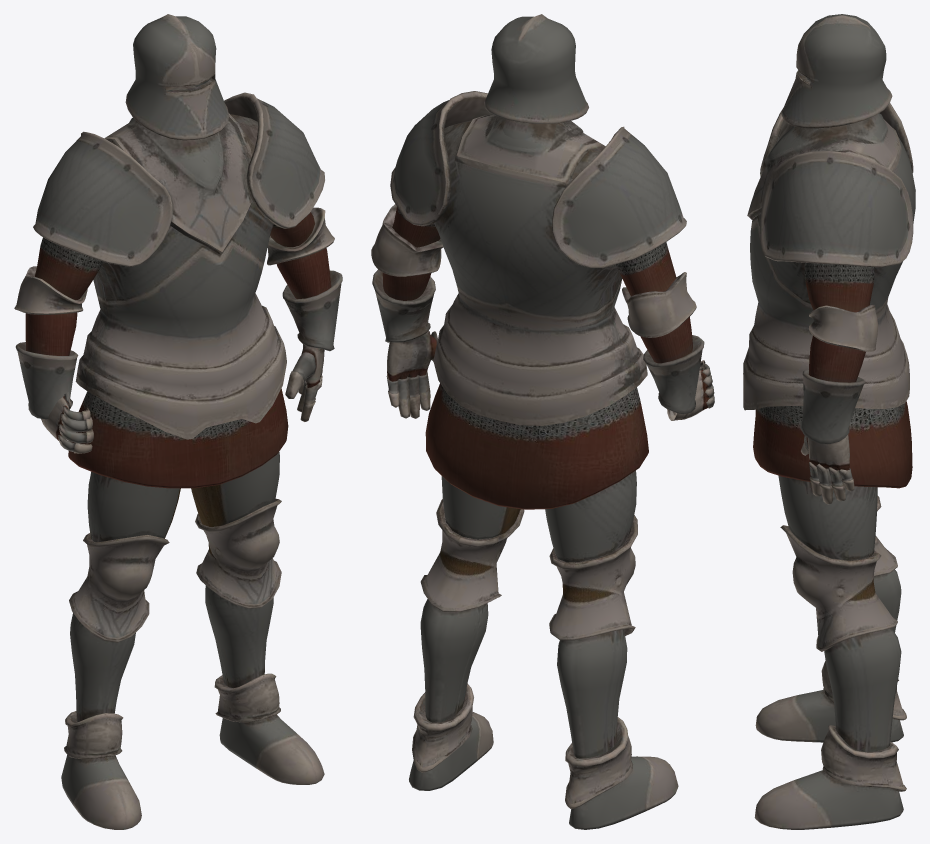
File: armour-redcloth-2.glb
3 views of the same model, side by side, from view 1: azimuth 30°, elevation 25°; view 2: azimuth 150°, elevation 25°; view 3: azimuth 270°, elevation 25° (orthographic).
Visible parts, largest first — view 1: armour-redcloth-2; view 2: armour-redcloth-2; view 3: armour-redcloth-2.
Part boxes in pixels (x1,y1,x2,y2): armour-redcloth-2: [14, 14, 342, 829]; armour-redcloth-2: [371, 14, 714, 829]; armour-redcloth-2: [743, 14, 915, 829].
Bounding box in the file's own units: 0.7479 × 1.7 × 0.3514.
1 material, 1 textured.
